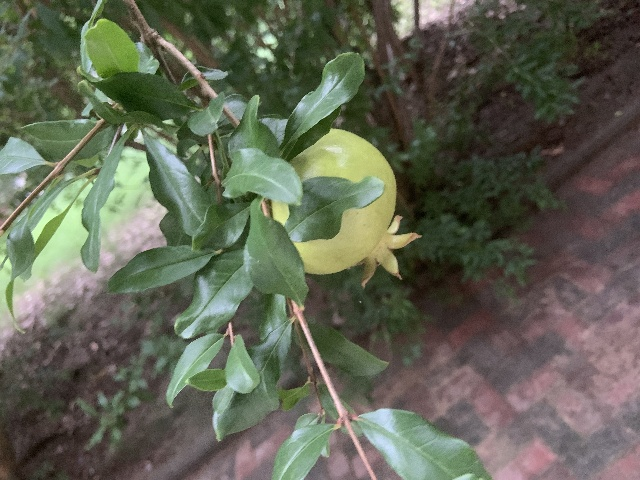mid-growth: (269, 127, 421, 289)
